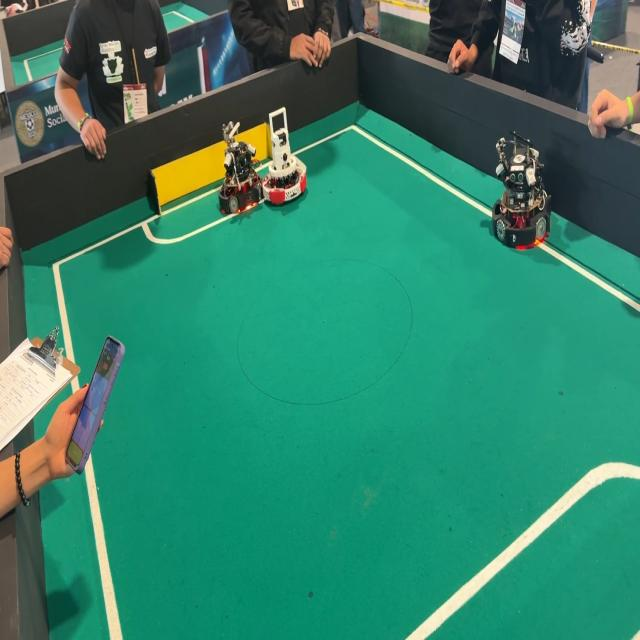Robot: (474, 125, 570, 258), (262, 103, 316, 218), (214, 116, 264, 224)
